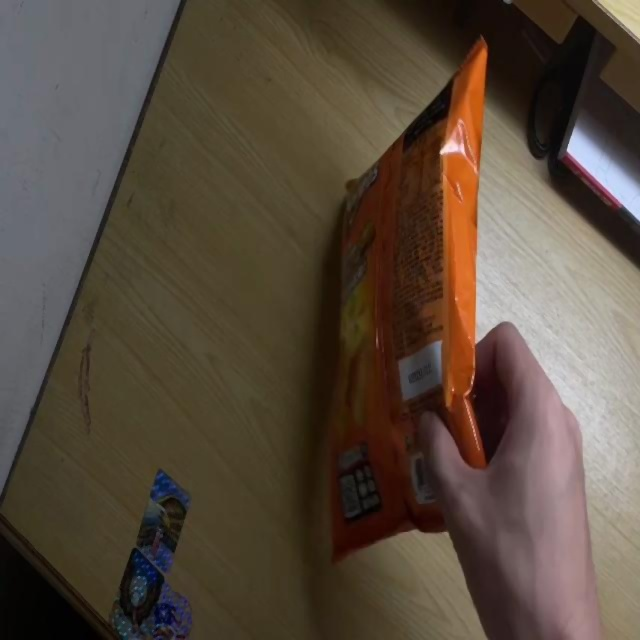Doritos: (330, 34, 495, 556)
